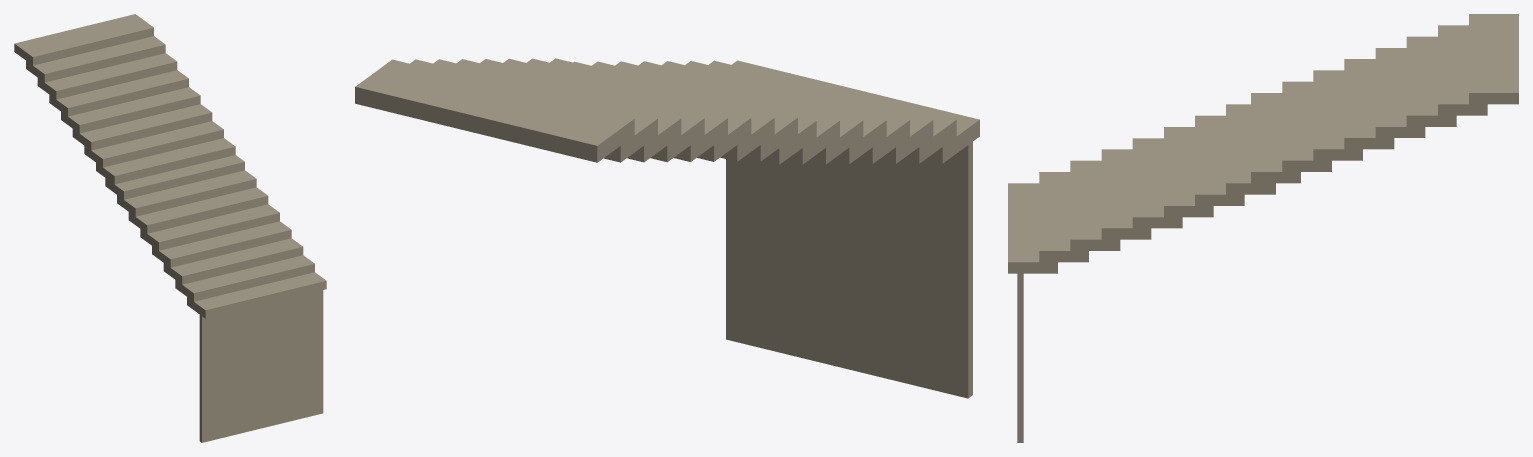
The model's file is Wall Regular (Test).fbx.
3 views of the same model, side by side, from view 1: azimuth 30°, elevation 25°; view 2: azimuth 150°, elevation 25°; view 3: azimuth 270°, elevation 25° (orthographic). The views are drawn at different scales.
Visible parts, largest first — view 1: Wall_Regular1; view 2: Wall_Regular1; view 3: Wall_Regular1.
Boxes of the visible parts, left/top/right/bottom form: Wall_Regular1: left=14, top=14, right=326, bottom=442; Wall_Regular1: left=355, top=58, right=979, bottom=398; Wall_Regular1: left=1008, top=14, right=1518, bottom=442.
Bounding box in the file's own units: 300 × 620 × 820.
